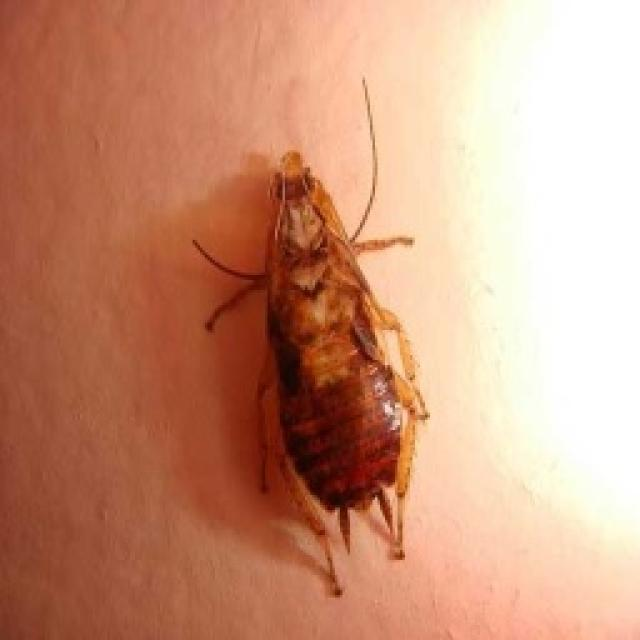cockroach: (187, 75, 437, 599)
